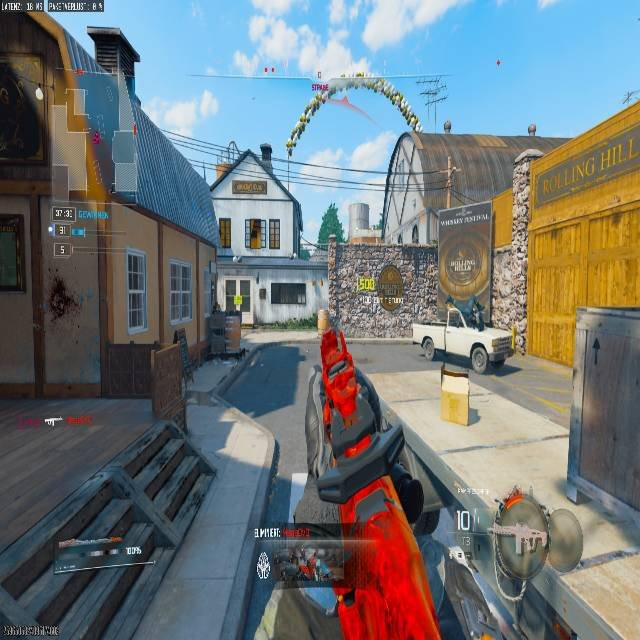head: (490, 498, 551, 579)
player: (469, 297, 485, 331)
